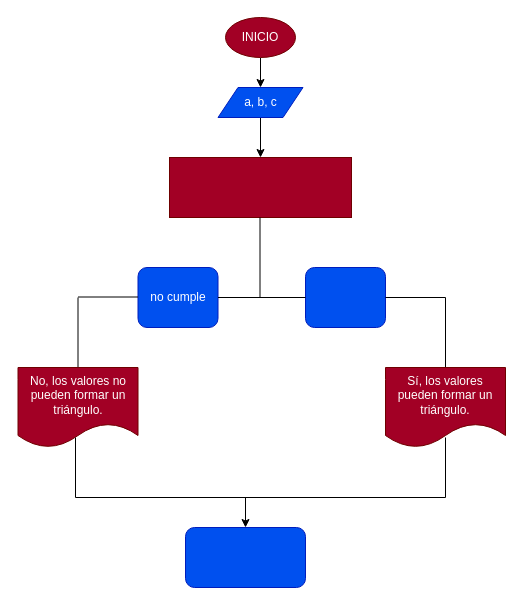
The diagram is 523 pixels wide and 605 high, and some of its shapes have lost their labels. Here are the shapes that lost their labels. From the top down, the centre of each, then its label:
At point (260, 187): "a + b > c y a + c > b y b + c > a".
At point (345, 297): "si cumple".
At point (245, 557): "FIN".
